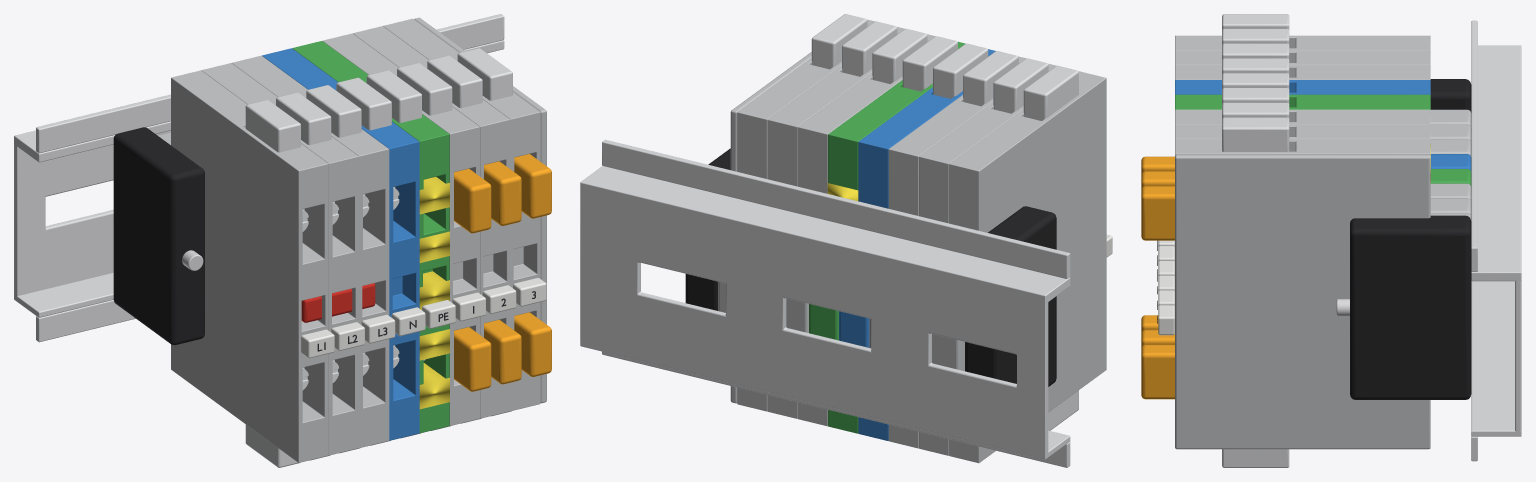
File: terminal_strip.glb
3 views of the same model, side by side, from view 1: azimuth 30°, elevation 25°; view 2: azimuth 150°, elevation 25°; view 3: azimuth 270°, elevation 25° (orthographic).
Visible parts, largest first — view 1: housing, foot, clamps, screws, marker, bar; view 2: foot, housing, clamps; view 3: housing, foot, clamps, screws, marker.
Part boxes in pixels (x1,y1,x2,y2): housing: (171, 17, 546, 462); foot: (14, 14, 504, 345); clamps: (245, 48, 512, 467); screws: (302, 154, 551, 391); marker: (301, 278, 546, 358); bar: (301, 283, 375, 322); foot: (580, 139, 1070, 467); housing: (730, 19, 1106, 463); clamps: (811, 14, 1078, 430); housing: (1175, 35, 1430, 449); foot: (1336, 20, 1521, 461); clamps: (1222, 14, 1289, 467); screws: (1141, 156, 1174, 399); marker: (1157, 240, 1174, 335).
Bounding box in the file's own units: 0.08 × 0.0558 × 0.0565.
